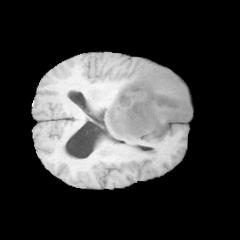glioma: (105, 60, 191, 145)
